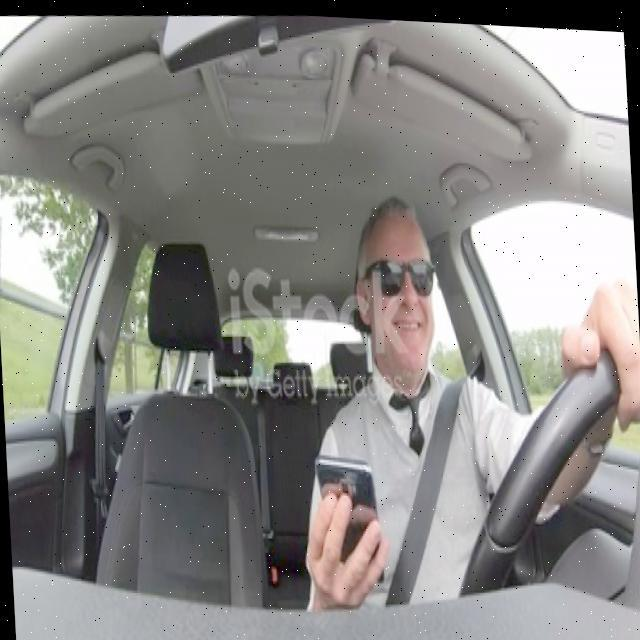PhoneCall: (312, 450, 386, 582)
